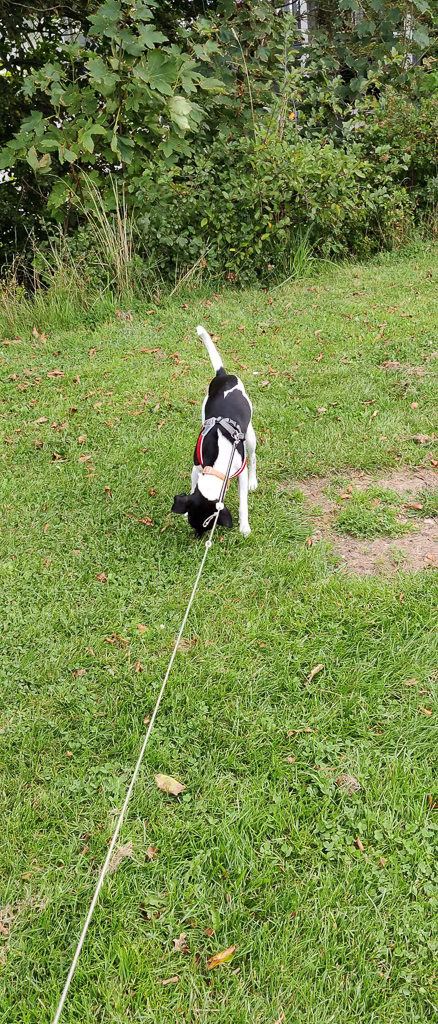Dog: (148, 317, 290, 551)
